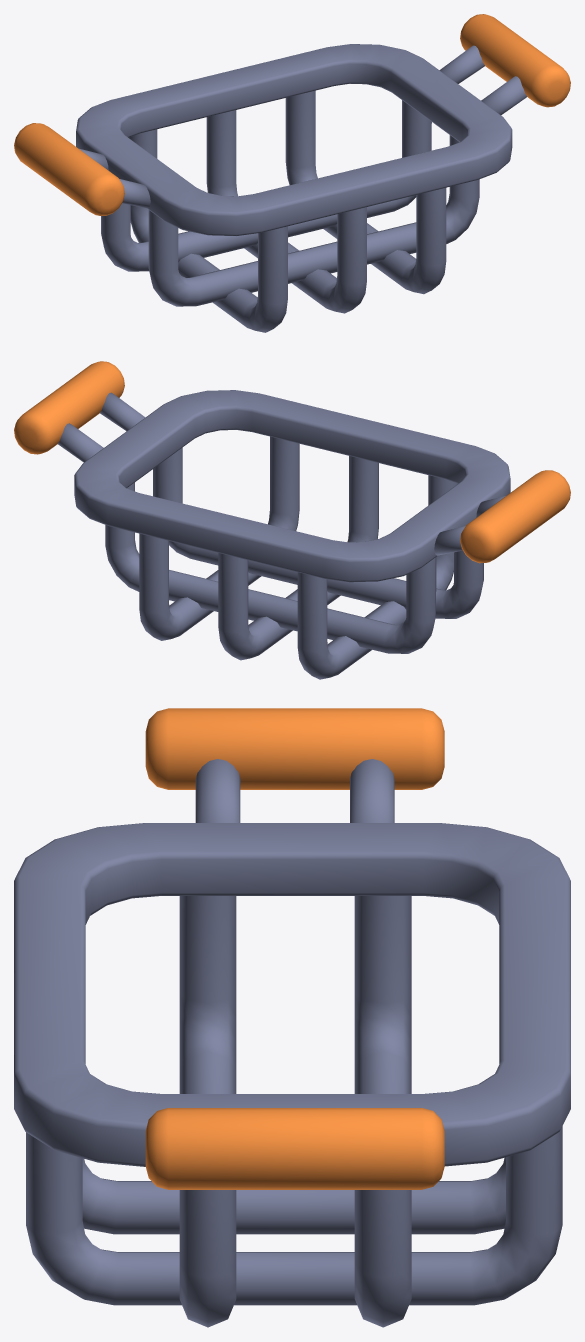
File: SM_Fryer_Wire.fbx
The picture shows the model from 3 angles, top to bottom: view 1: azimuth 30°, elevation 25°; view 2: azimuth 150°, elevation 25°; view 3: azimuth 270°, elevation 25°; orthographic projection. The views are drawn at different scales.
Visible parts, largest first — view 1: Fryer_Wire; view 2: Fryer_Wire; view 3: Fryer_Wire.
Part boxes in pixels (bbox=[...]): Fryer_Wire: bbox=[14, 14, 570, 332]; Fryer_Wire: bbox=[14, 361, 570, 679]; Fryer_Wire: bbox=[14, 708, 570, 1327].
Size of the model in its own units: 207 by 72.56 by 112.
